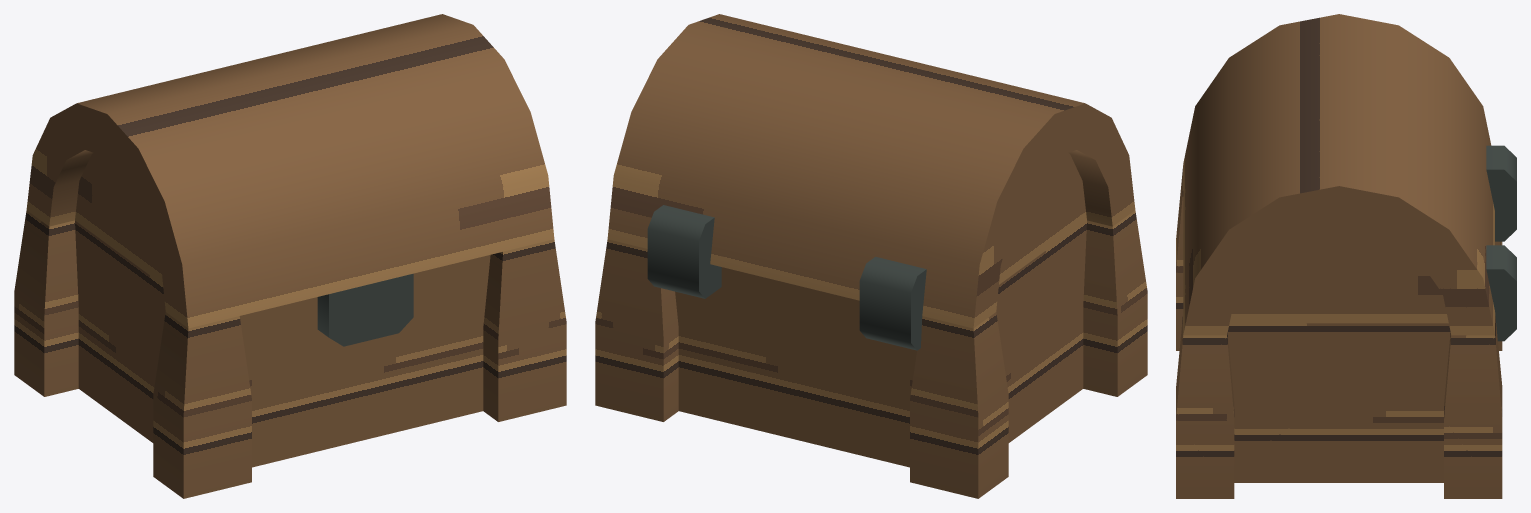
File: chest-banded-lid.glb
3 renders of one model, left to right at view 1: azimuth 30°, elevation 25°; view 2: azimuth 150°, elevation 25°; view 3: azimuth 270°, elevation 25°, orthographic. The views are drawn at different scales.
Visible parts, largest first — view 1: chest-banded-lid runtime mesh; view 2: chest-banded-lid runtime mesh; view 3: chest-banded-lid runtime mesh.
Part boxes in pixels (x1=…): chest-banded-lid runtime mesh: x1=14, y1=14, x2=566, y2=498; chest-banded-lid runtime mesh: x1=595, y1=14, x2=1147, y2=498; chest-banded-lid runtime mesh: x1=1176, y1=14, x2=1516, y2=498.
Bounding box in the file's own units: 1 × 0.8 × 0.8.
Materials: 2 (1 with a texture image).
